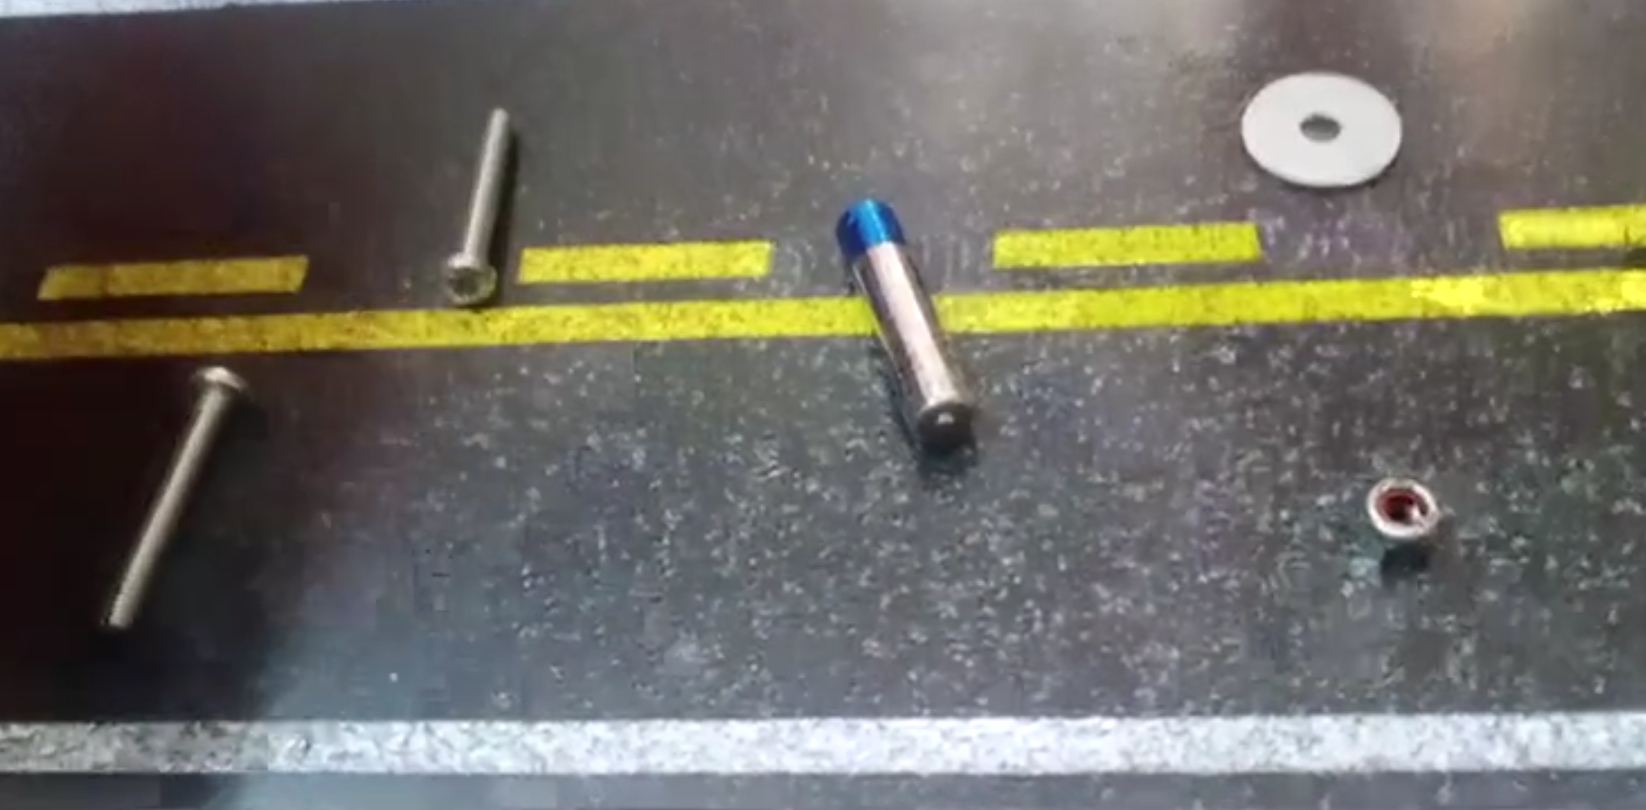metal: (824, 190, 982, 450), (100, 361, 247, 633), (1234, 68, 1408, 194), (435, 98, 512, 310), (1359, 471, 1447, 552)
